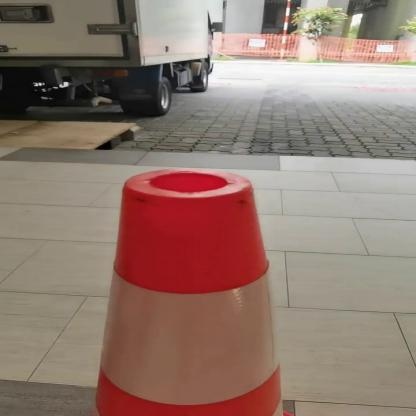cone: (75, 160, 307, 416)
